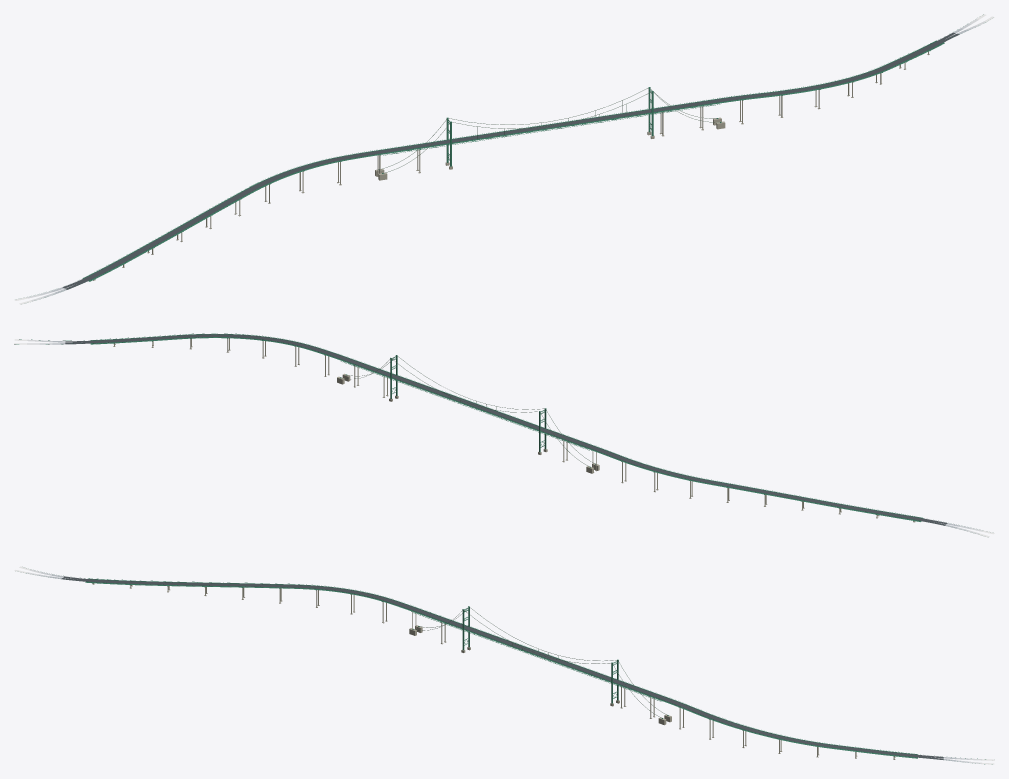
Rendered from vincent-thomas-bridge-far.glb.
3 views of the same model, one above another, from view 1: azimuth 30°, elevation 25°; view 2: azimuth 150°, elevation 25°; view 3: azimuth 330°, elevation 25° (orthographic). The views are drawn at different scales.
Visible parts, largest first — view 1: vincent-thomas-bridge-0-asphalt, vincent-thomas-bridge-0-steel, vincent-thomas-bridge-0-concrete, vincent-thomas-bridge-0-cable; view 2: vincent-thomas-bridge-0-asphalt, vincent-thomas-bridge-0-steel, vincent-thomas-bridge-0-concrete; view 3: vincent-thomas-bridge-0-steel, vincent-thomas-bridge-0-asphalt, vincent-thomas-bridge-0-concrete, vincent-thomas-bridge-0-cable.
Boxes of the visible parts, box(x1,y1,x2,y2) form: vincent-thomas-bridge-0-asphalt: box(62, 32, 959, 289); vincent-thomas-bridge-0-steel: box(45, 14, 985, 297); vincent-thomas-bridge-0-concrete: box(93, 51, 929, 280); vincent-thomas-bridge-0-cable: box(381, 88, 719, 173); vincent-thomas-bridge-0-asphalt: box(65, 334, 947, 525); vincent-thomas-bridge-0-steel: box(14, 333, 938, 521); vincent-thomas-bridge-0-concrete: box(113, 338, 915, 522); vincent-thomas-bridge-0-steel: box(26, 573, 992, 764); vincent-thomas-bridge-0-asphalt: box(61, 576, 943, 759); vincent-thomas-bridge-0-concrete: box(92, 583, 895, 759); vincent-thomas-bridge-0-cable: box(414, 607, 667, 717).
Bounding box in the file's own units: 2526 × 111 × 245.
